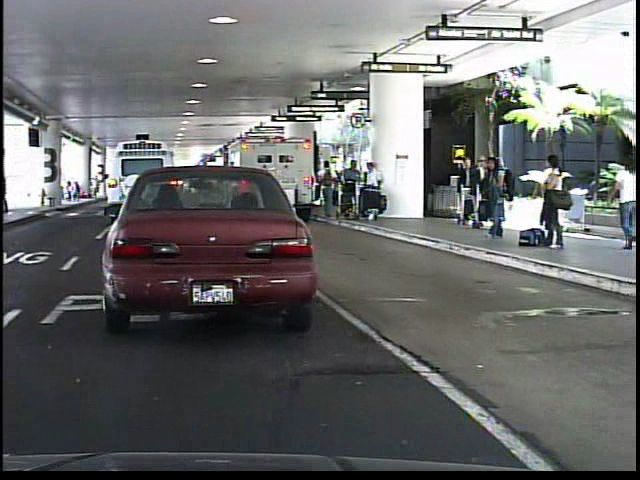person: (606, 154, 639, 250), (537, 149, 567, 253)
